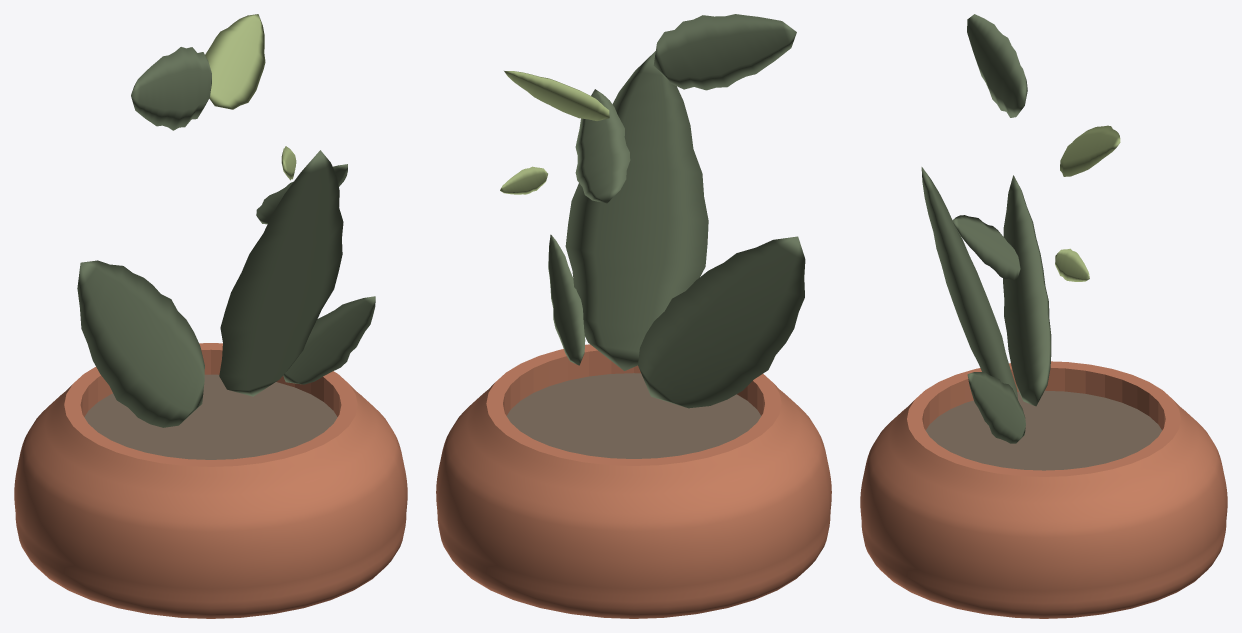
Rendered from NPR_25_1023__MOD__GardenFurniture__PlantersAndPots__PottedPlantTerracotta__Var-03__.glb.
3 renders of one model, left to right at view 1: azimuth 30°, elevation 25°; view 2: azimuth 150°, elevation 25°; view 3: azimuth 270°, elevation 25°, orthographic. The views are drawn at different scales.
Parts seen in each view (by area): view 1: NPR_25_1023__MOD__GardenFurniture__PlantersAndPots__PottedPl; view 2: NPR_25_1023__MOD__GardenFurniture__PlantersAndPots__PottedPl; view 3: NPR_25_1023__MOD__GardenFurniture__PlantersAndPots__PottedPl.
Part boxes in pixels (bbox=[...]): NPR_25_1023__MOD__GardenFurniture__PlantersAndPots__PottedPl: bbox=[14, 14, 407, 618]; NPR_25_1023__MOD__GardenFurniture__PlantersAndPots__PottedPl: bbox=[436, 14, 831, 618]; NPR_25_1023__MOD__GardenFurniture__PlantersAndPots__PottedPl: bbox=[860, 14, 1227, 618].
Size of the model in its own units: 0.4321 by 0.6481 by 0.4321.
